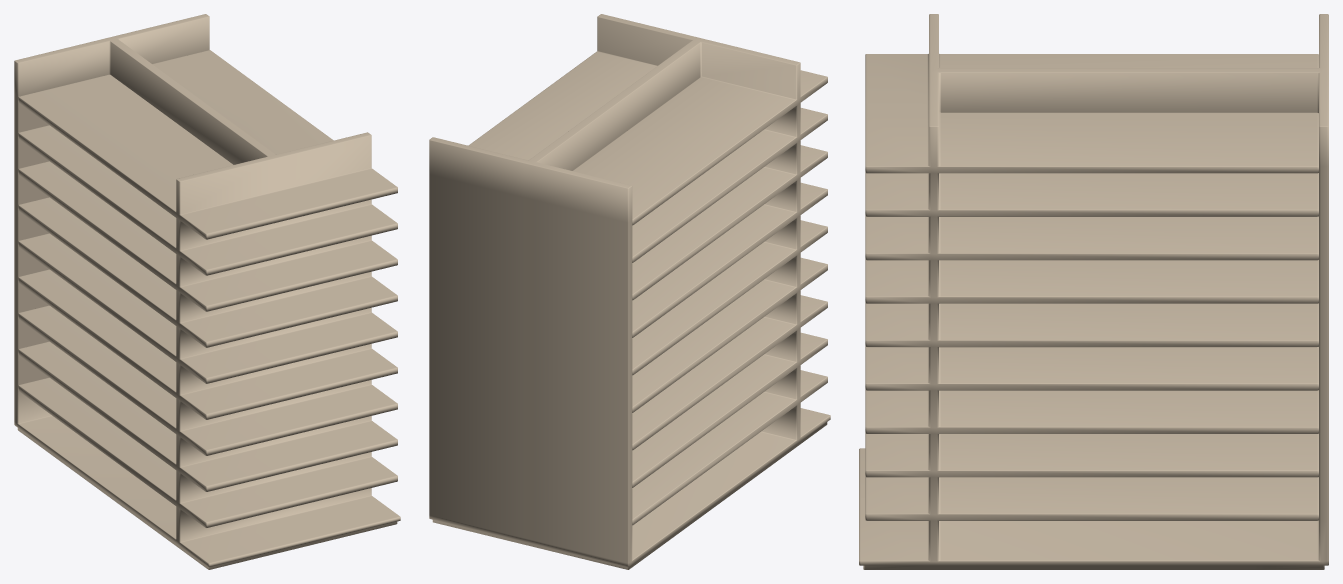
Rendered from Shelf06.fbx.
The picture shows the model from 3 angles, left to right: view 1: azimuth 30°, elevation 25°; view 2: azimuth 150°, elevation 25°; view 3: azimuth 270°, elevation 25°; orthographic projection. The views are drawn at different scales.
Visible parts, largest first — view 1: Regal4_dreiseitig; view 2: Regal4_dreiseitig; view 3: Regal4_dreiseitig.
Boxes of the visible parts, x1,y1,x2,y2 form: Regal4_dreiseitig: (14, 14, 400, 569); Regal4_dreiseitig: (429, 14, 830, 569); Regal4_dreiseitig: (859, 14, 1328, 569).
Size of the model in its own units: 529 by 971 by 930.
